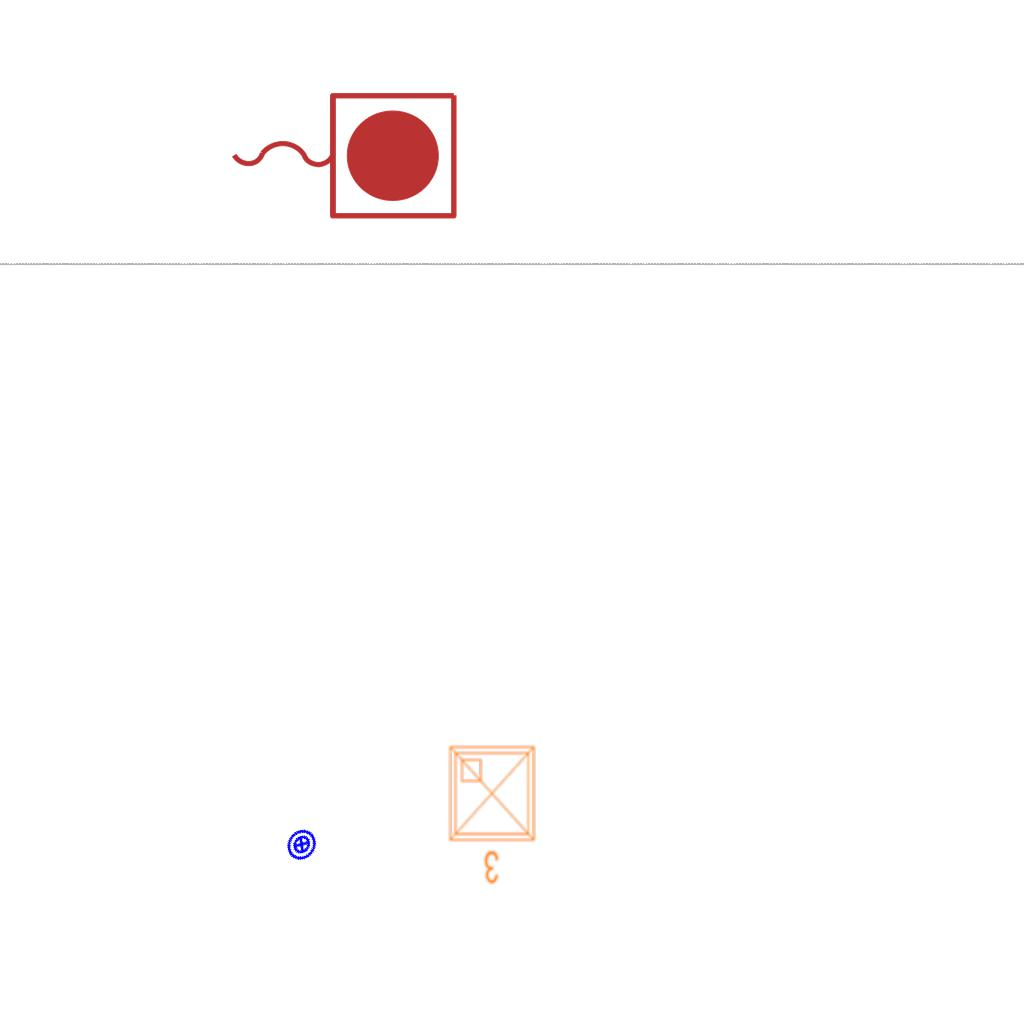Einbaudownlights_LED_Konferenzraeume: (442, 739, 546, 889)
Taster_beleuchtet: (278, 821, 325, 868)
Zugtaster: (221, 82, 465, 226)
